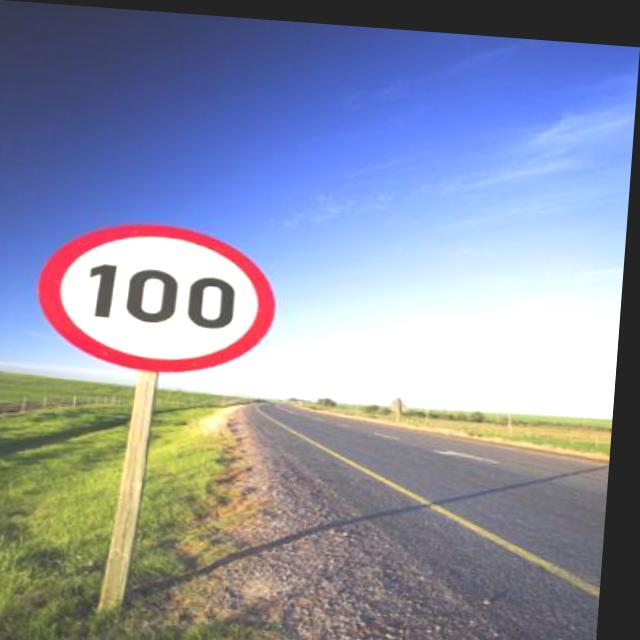limit100: (39, 210, 290, 377)
